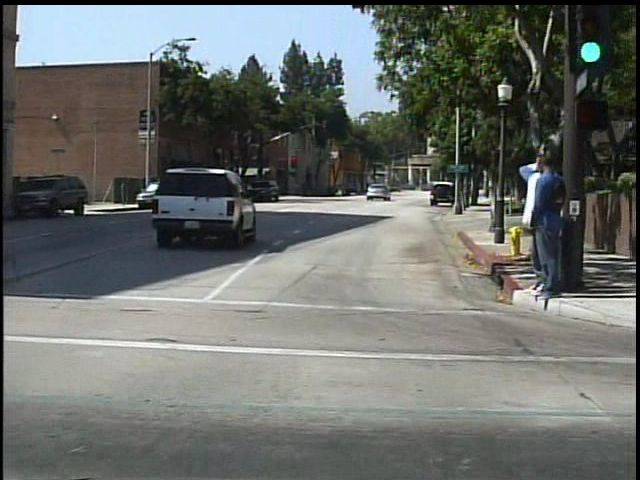person: (515, 153, 555, 297), (528, 152, 565, 303), (334, 179, 346, 197)
